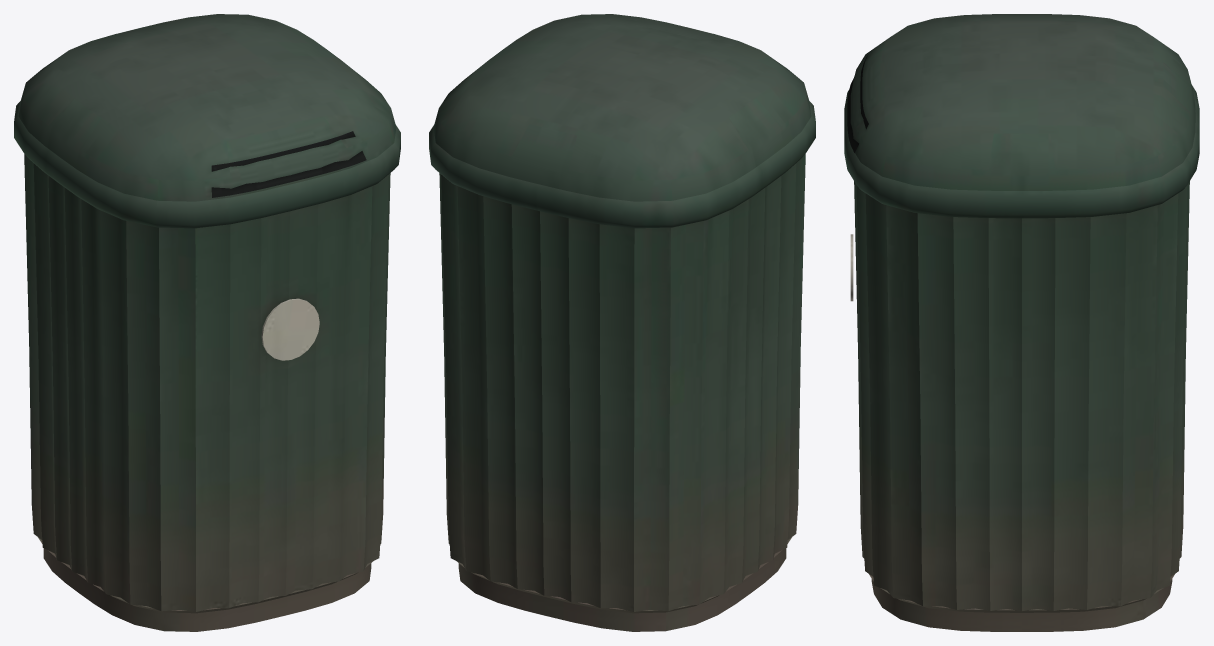
File: wasteBin-v2.glb
3 views of the same model, side by side, from view 1: azimuth 30°, elevation 25°; view 2: azimuth 150°, elevation 25°; view 3: azimuth 270°, elevation 25° (orthographic). The views are drawn at different scales.
Visible parts, largest first — view 1: wasteBin; view 2: wasteBin; view 3: wasteBin.
Part boxes in pixels (x1,y1,x2,y2): wasteBin: [14, 14, 400, 631]; wasteBin: [429, 14, 815, 631]; wasteBin: [844, 14, 1199, 631].
Size of the model in its own units: 0.59 by 0.94 by 0.59.
Materials: 1 (1 with a texture image).
